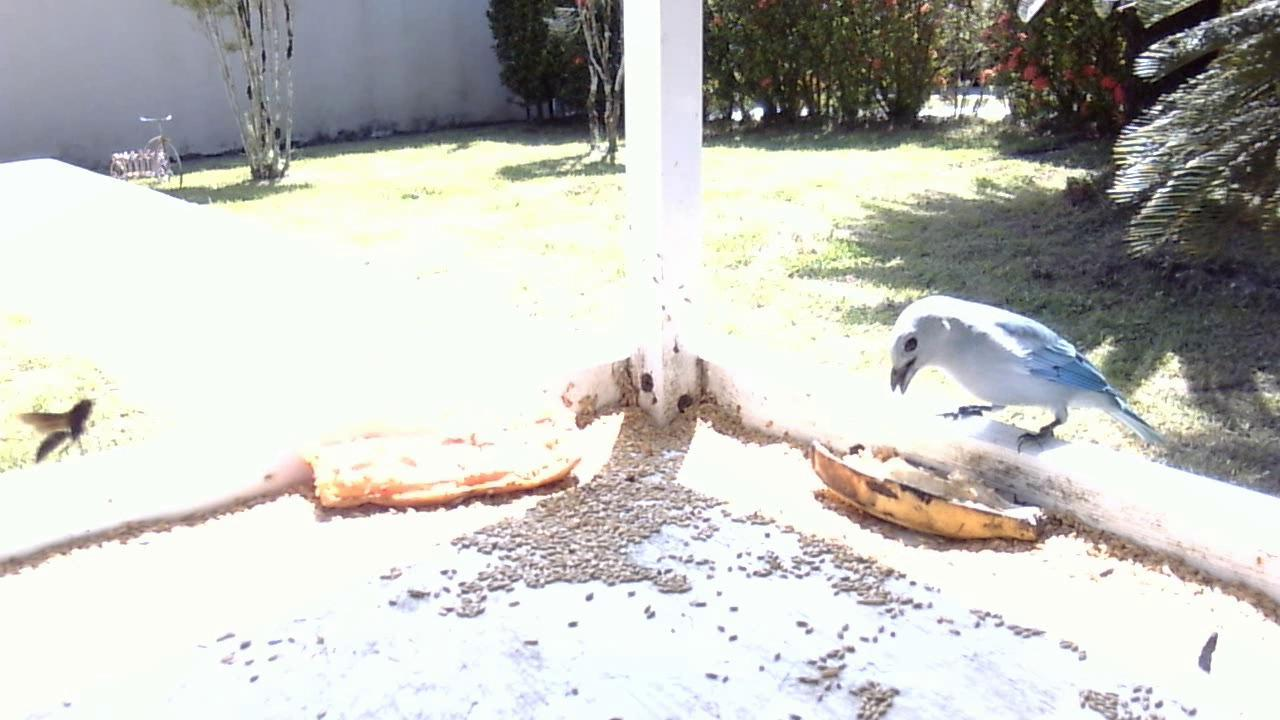sanhaco_da_amazonia: (885, 286, 1175, 467)
